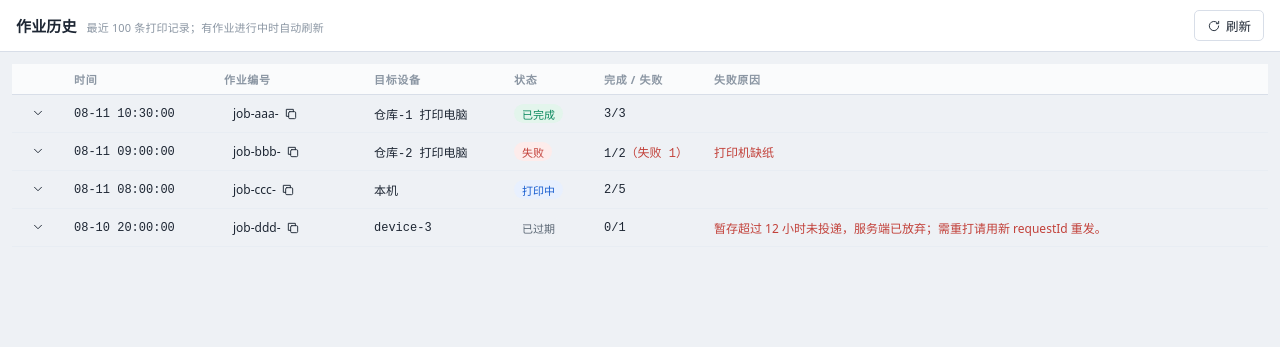
Test: 作业行展开明细（迭代 85 · #133 C-5） › AC-03：服务端形态作业展开行——状态 / 完成失败 / 失败原因完整呈现＋决议 2 如实占位；再点收起
Expected: the text "已完成" is shown, [514,104,563,123]
展开 job-bbb（Failed，失败原因「打印机缺纸」）
Click the button titled "展开明细" next to "08-11 09:00:00" at x=38, y=151, box [22,141,54,161]
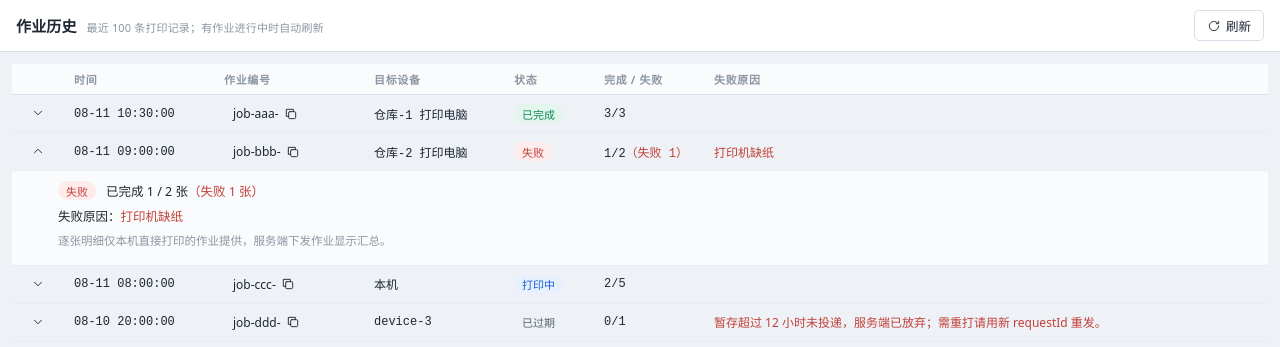
Now the text "逐张明细仅本机直接打印的作业提供，服务端下发作业显示汇总。" is shown, box [58,233,392,248]
Now the text "打印机缺纸" is shown 2 times, box [704,132,1268,170]; [120,208,183,225]
Now the text "已完成 1 / 2 张（失败 1 张）" is shown, box [106,181,264,200]
收起：占位说明与汇总随之消失，列表行仍在
Click the button titled "收起明细" at x=38, y=151, box [22,141,54,161]
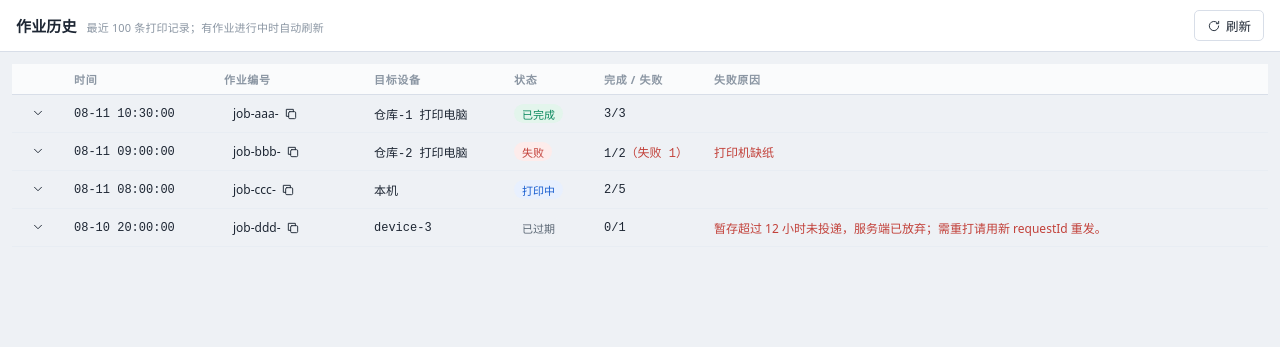
Now the text "逐张明细仅本机直接打印的作业提供" is gone
Now the text "打印机缺纸" is shown once, box [704,132,1268,170]
